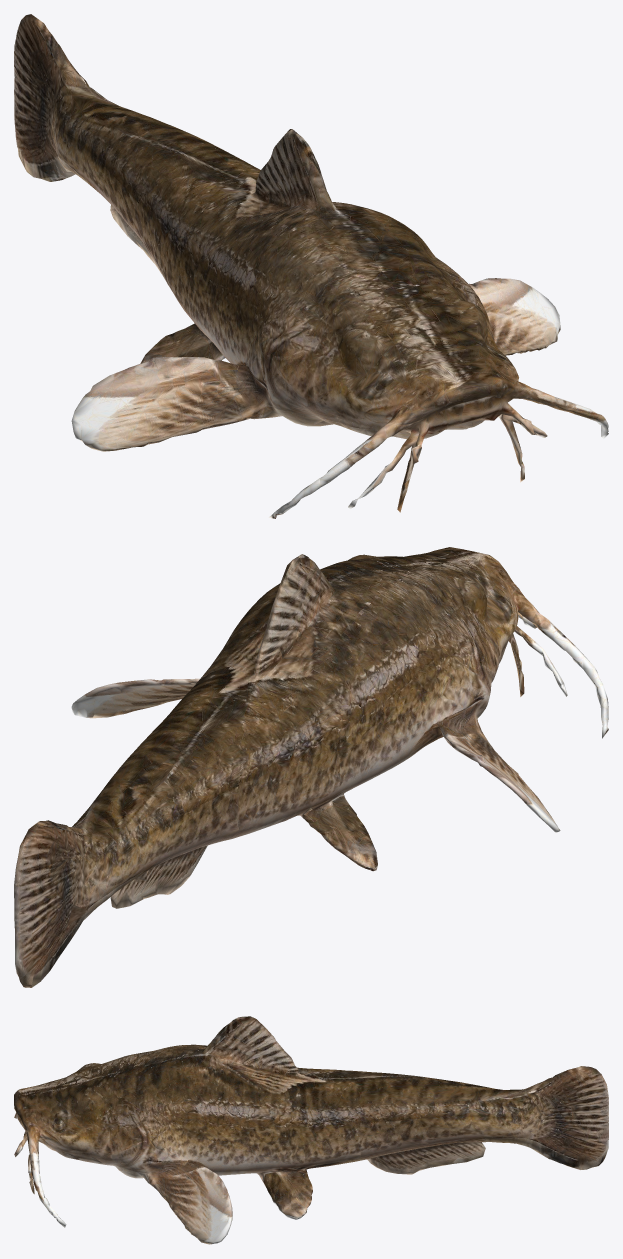
File: fish_clarias.glb
3 views of the same model, one above another, from view 1: azimuth 30°, elevation 25°; view 2: azimuth 150°, elevation 25°; view 3: azimuth 270°, elevation 25° (orthographic). The views are drawn at different scales.
Visible parts, largest first — view 1: geometry_0; view 2: geometry_0; view 3: geometry_0.
Part boxes in pixels (box(x1,y1,x2,y2)): geometry_0: box(14, 14, 608, 518); geometry_0: box(14, 547, 608, 987); geometry_0: box(14, 1016, 608, 1244).
Size of the model in its own units: 1.19 by 0.603 by 1.96.
Materials: 1 (1 with a texture image).
